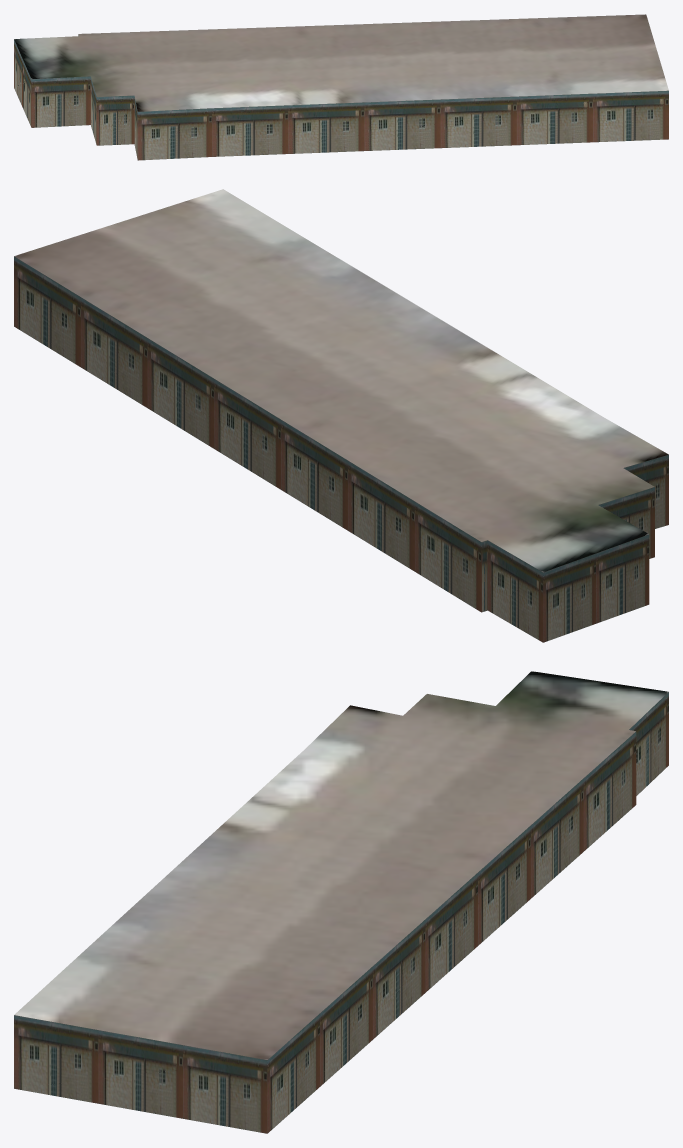
3 views of the same model, one above another, from view 1: azimuth 30°, elevation 25°; view 2: azimuth 150°, elevation 25°; view 3: azimuth 270°, elevation 25° (orthographic). The views are drawn at different scales.
Parts seen in each view (by area): view 1: SketchUp (×7); view 2: SketchUp (×6); view 3: SketchUp (×4).
Part boxes in pixels (bbox=[...]): SketchUp (×7): bbox=[14, 14, 668, 160]; SketchUp (×6): bbox=[14, 189, 668, 642]; SketchUp (×4): bbox=[14, 671, 668, 1133].
Bounding box in the file's own units: 42.92 × 30.54 × 3.79.
2 materials, 2 textured.
